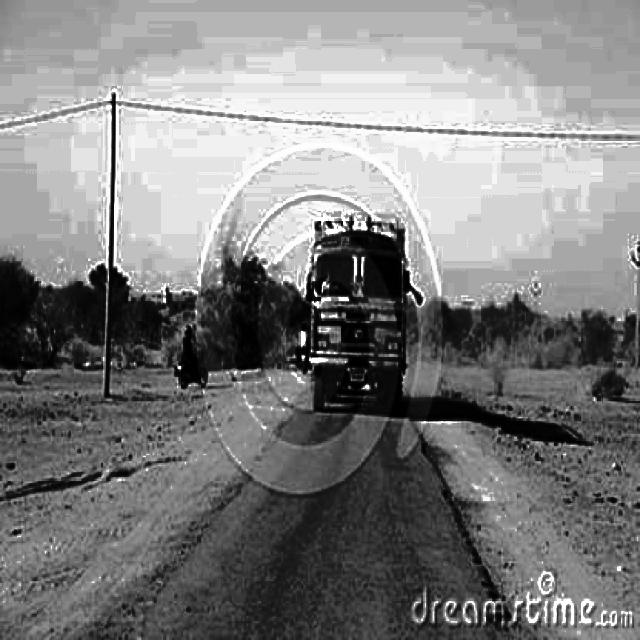HCV: (297, 220, 417, 417)
